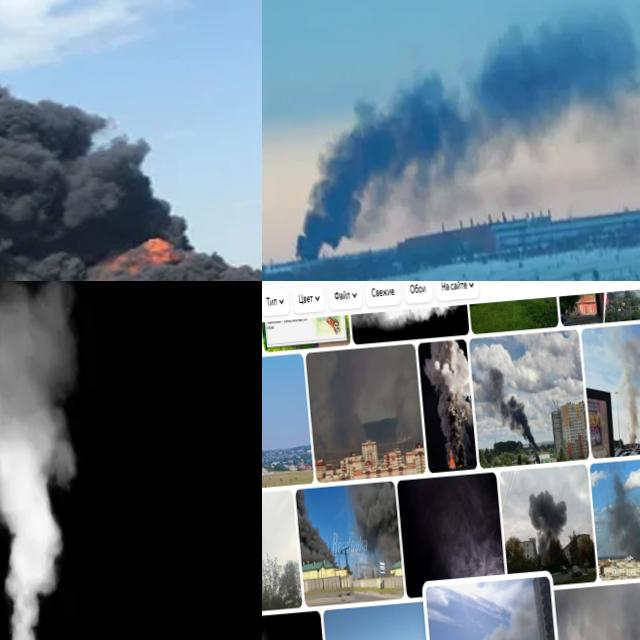smoke: (277, 4, 640, 258), (0, 0, 262, 281), (0, 281, 115, 640), (423, 338, 478, 462), (479, 368, 542, 452), (348, 481, 403, 570), (467, 583, 547, 640), (444, 503, 504, 578), (296, 486, 340, 572), (601, 471, 640, 563), (612, 345, 640, 445)
